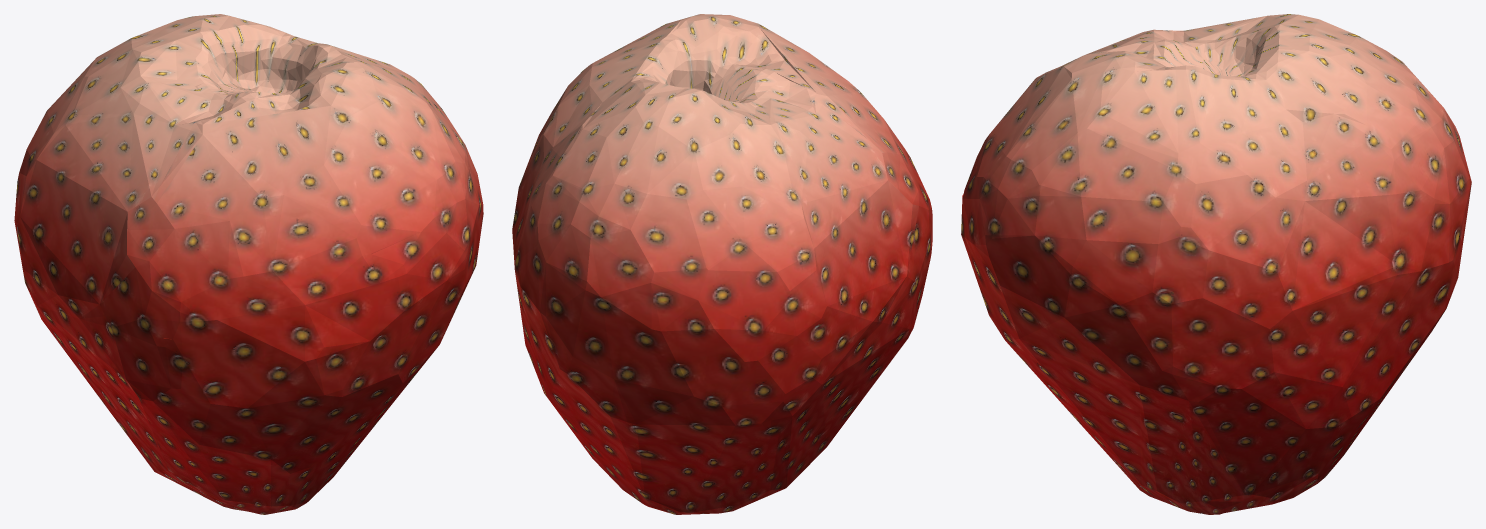
3 renders of one model, left to right at view 1: azimuth 30°, elevation 25°; view 2: azimuth 150°, elevation 25°; view 3: azimuth 270°, elevation 25°, orthographic. The views are drawn at different scales.
Visible parts, largest first — view 1: _001_Meshed; view 2: _001_Meshed; view 3: _001_Meshed.
Boxes of the visible parts, x1,y1,x2,y2 form: _001_Meshed: [14, 14, 483, 514]; _001_Meshed: [512, 14, 932, 514]; _001_Meshed: [961, 14, 1471, 514].
Bounding box in the file's own units: 0.0955 × 0.1113 × 0.1115.
Materials: 1 (1 with a texture image).
